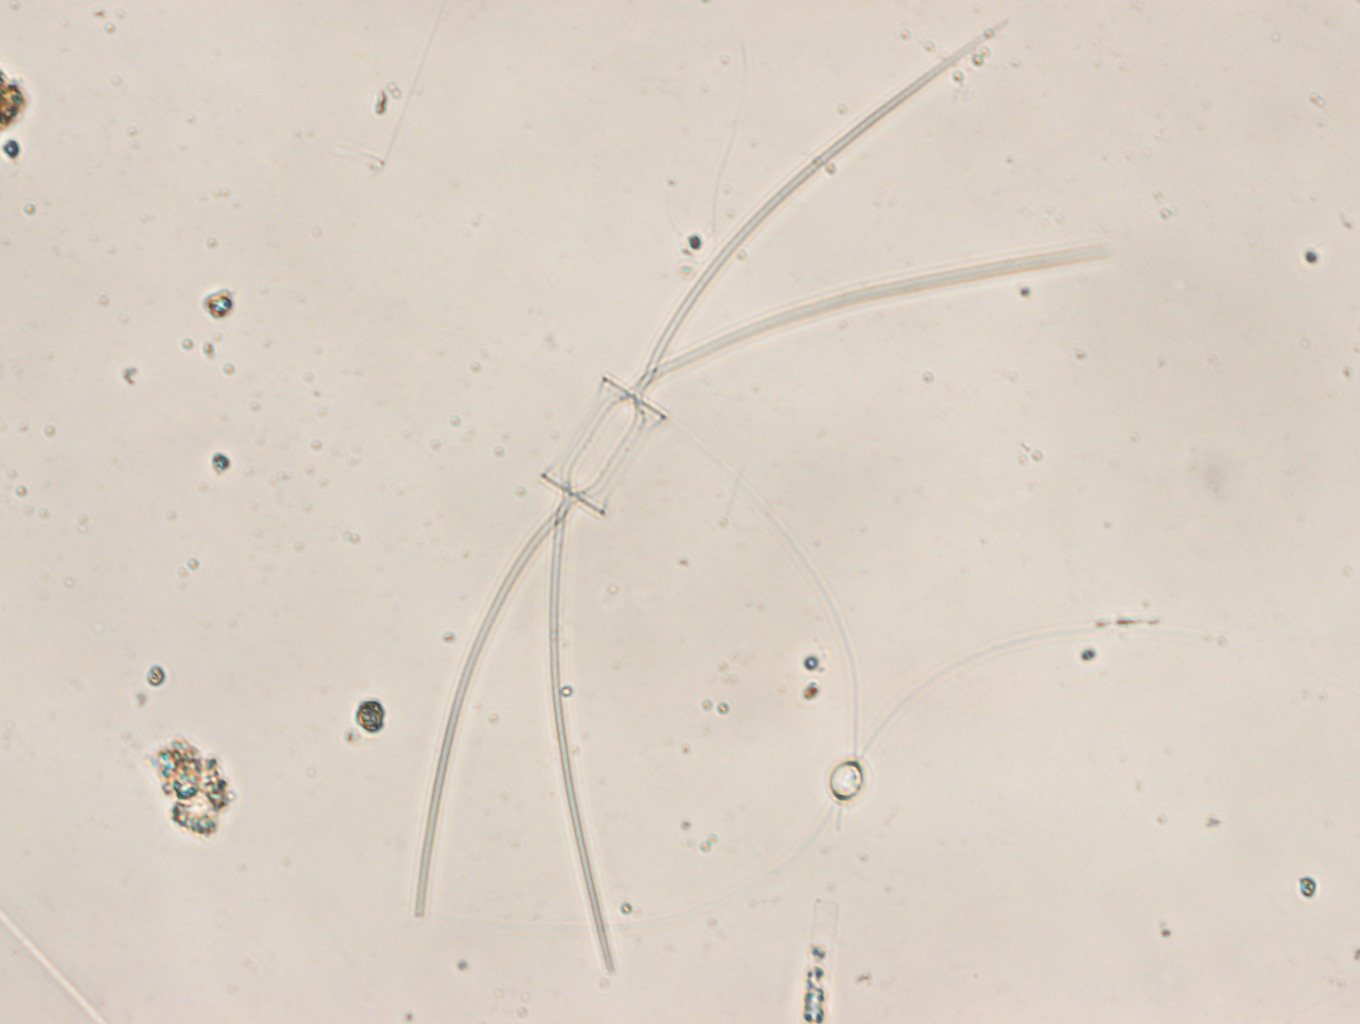chaetoceros: (389, 12, 1113, 978)
